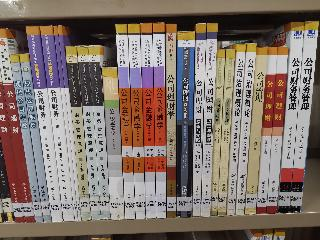book-spine: (24, 25, 64, 225), (39, 25, 75, 223), (0, 28, 35, 224), (286, 20, 319, 214), (9, 53, 43, 223), (19, 53, 51, 223), (56, 25, 83, 222), (277, 20, 304, 214), (53, 25, 79, 222), (65, 44, 91, 222), (114, 24, 136, 222), (77, 46, 102, 220), (126, 22, 147, 220), (265, 46, 289, 214), (174, 31, 195, 219), (198, 22, 218, 218), (88, 44, 110, 221), (255, 46, 278, 215), (224, 43, 246, 215), (100, 67, 124, 222), (245, 47, 267, 215), (139, 22, 157, 220), (236, 43, 256, 216), (216, 47, 236, 218), (189, 23, 206, 218), (208, 50, 227, 217), (152, 22, 168, 220), (165, 23, 176, 218)
